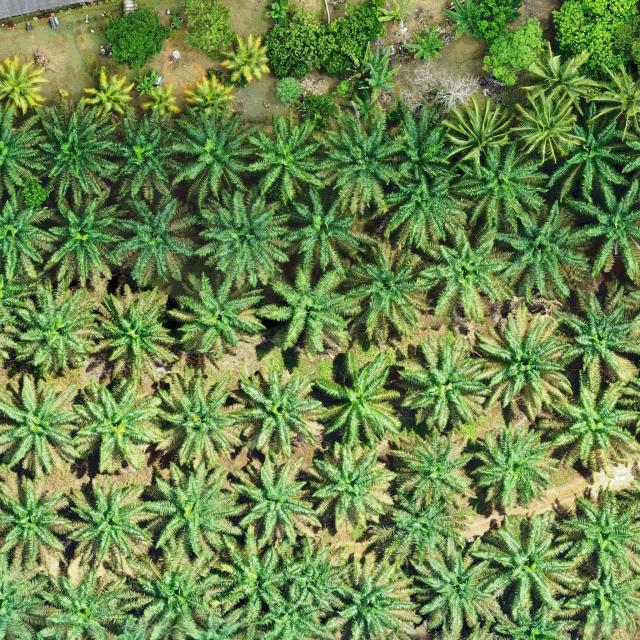0: (467, 517, 584, 626), (468, 308, 576, 424), (112, 537, 229, 640), (307, 105, 412, 219), (255, 252, 365, 360), (408, 218, 514, 326), (19, 90, 124, 198), (343, 234, 446, 340), (204, 524, 306, 630), (140, 459, 238, 569), (536, 369, 640, 470), (493, 198, 590, 305), (98, 102, 197, 206), (148, 367, 248, 469), (393, 333, 487, 437), (542, 109, 640, 207), (194, 188, 290, 288), (164, 109, 260, 208), (226, 365, 326, 458), (85, 287, 177, 388), (373, 161, 476, 251), (67, 378, 162, 474), (304, 442, 399, 537), (2, 283, 96, 379), (402, 540, 494, 638), (311, 352, 401, 451), (322, 552, 422, 640), (0, 374, 80, 481), (225, 454, 317, 546), (551, 275, 640, 370), (452, 143, 547, 232), (468, 421, 560, 512), (43, 192, 125, 294), (29, 562, 136, 640), (564, 177, 640, 285), (166, 271, 266, 353), (112, 193, 196, 290), (65, 482, 153, 574), (555, 551, 639, 640), (390, 427, 477, 512), (243, 117, 322, 209), (556, 493, 640, 578), (0, 478, 69, 579), (282, 190, 365, 270), (383, 494, 473, 566), (383, 100, 458, 180), (442, 96, 516, 170), (281, 536, 347, 612), (523, 50, 594, 118), (512, 94, 578, 164), (583, 61, 640, 140), (0, 54, 49, 118), (82, 67, 136, 121), (183, 71, 240, 120), (221, 31, 271, 86), (143, 84, 182, 118)
banana_tree2: (347, 42, 402, 99), (406, 24, 447, 63), (441, 0, 473, 39), (375, 0, 413, 27)
tree: (262, 0, 386, 79), (551, 0, 640, 82), (481, 15, 547, 87), (104, 7, 175, 71), (182, 0, 235, 60), (274, 76, 304, 106)
